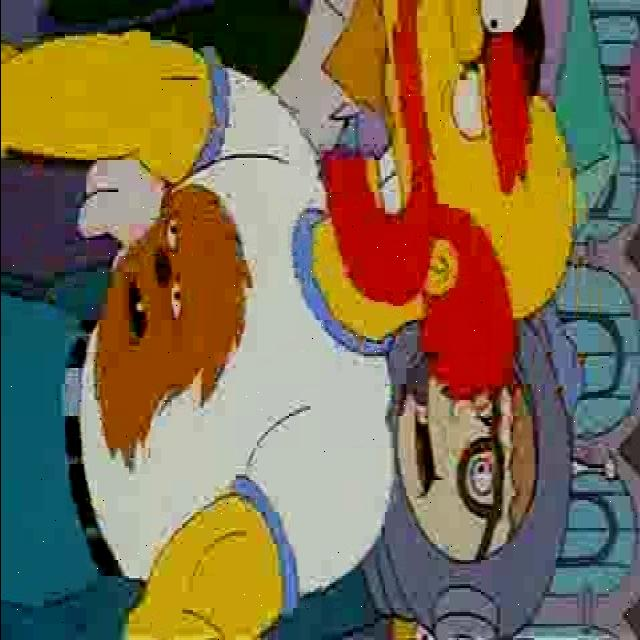Groundskeeper Willie: (315, 0, 573, 404)
